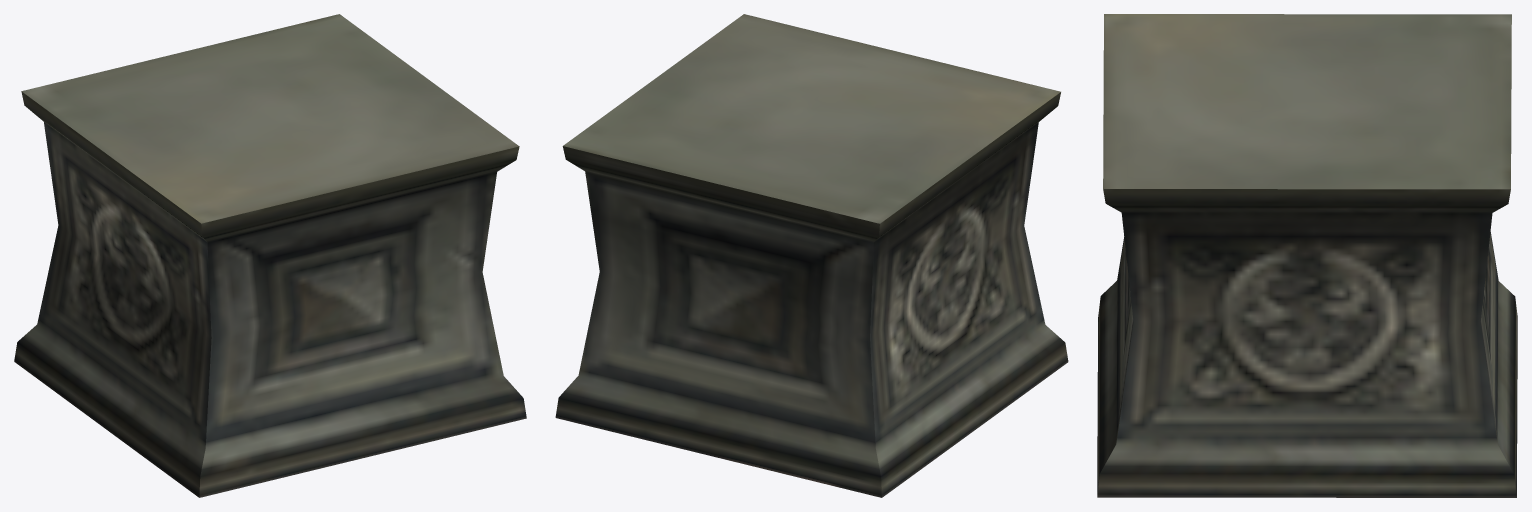
The model's file is DN_1_4_ldao04a.FBX.
3 renders of one model, left to right at view 1: azimuth 30°, elevation 25°; view 2: azimuth 150°, elevation 25°; view 3: azimuth 270°, elevation 25°, orthographic. The views are drawn at different scales.
Visible parts, largest first — view 1: DN_1_4_ldao04a; view 2: DN_1_4_ldao04a; view 3: DN_1_4_ldao04a.
Boxes of the visible parts, <box> form: DN_1_4_ldao04a: <box>14,14,526,497</box>; DN_1_4_ldao04a: <box>555,14,1068,497</box>; DN_1_4_ldao04a: <box>1097,14,1517,497</box>.
Size of the model in its own units: 147 by 116 by 145.
